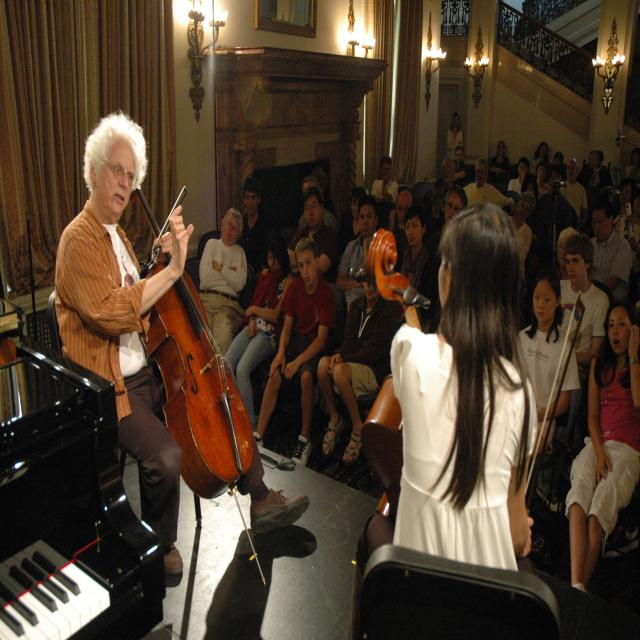cello: (125, 184, 256, 503), (362, 219, 459, 553)
